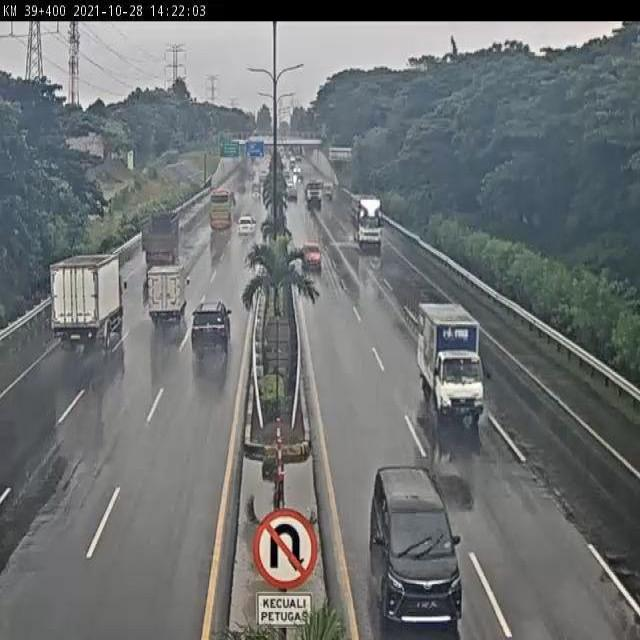big bus: (207, 185, 235, 232)
big truck: (303, 178, 325, 210)
car: (370, 474, 465, 626), (191, 304, 234, 364), (300, 239, 327, 276), (238, 216, 258, 235), (284, 184, 299, 208)
small truck: (417, 309, 490, 431), (43, 252, 127, 356), (144, 264, 187, 332), (349, 189, 387, 255), (141, 212, 181, 267)
